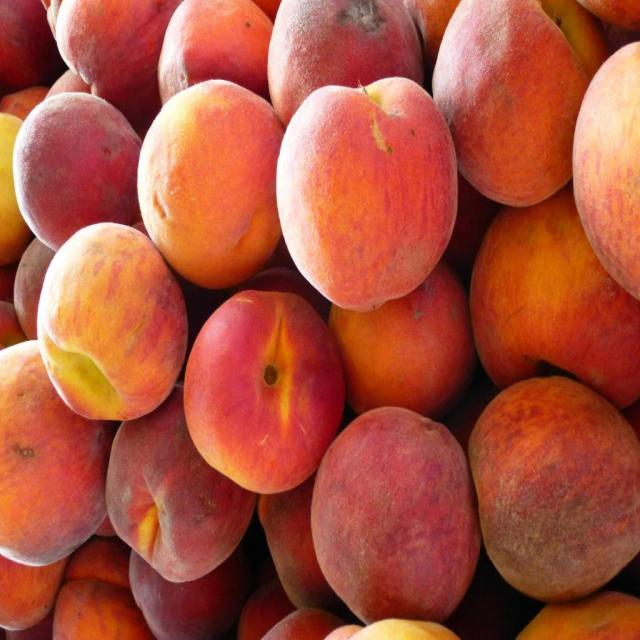Peach: (0, 0, 639, 639), (272, 74, 463, 312)
